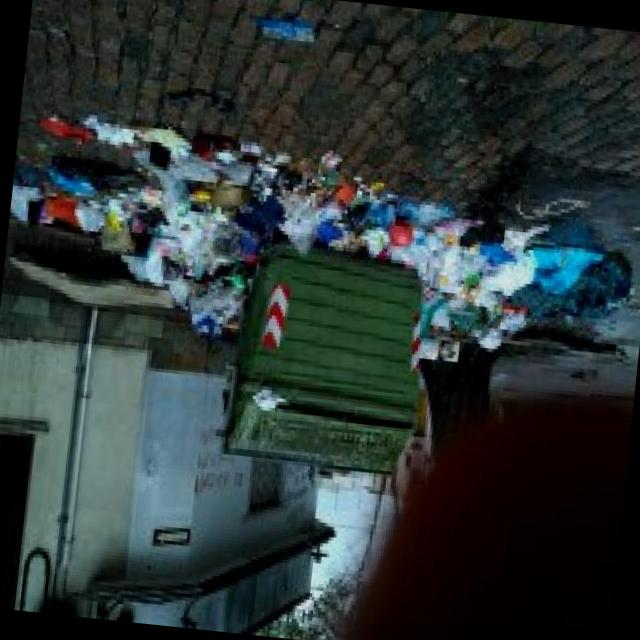high trash: (8, 116, 630, 360)
less trash: (261, 19, 314, 43)
